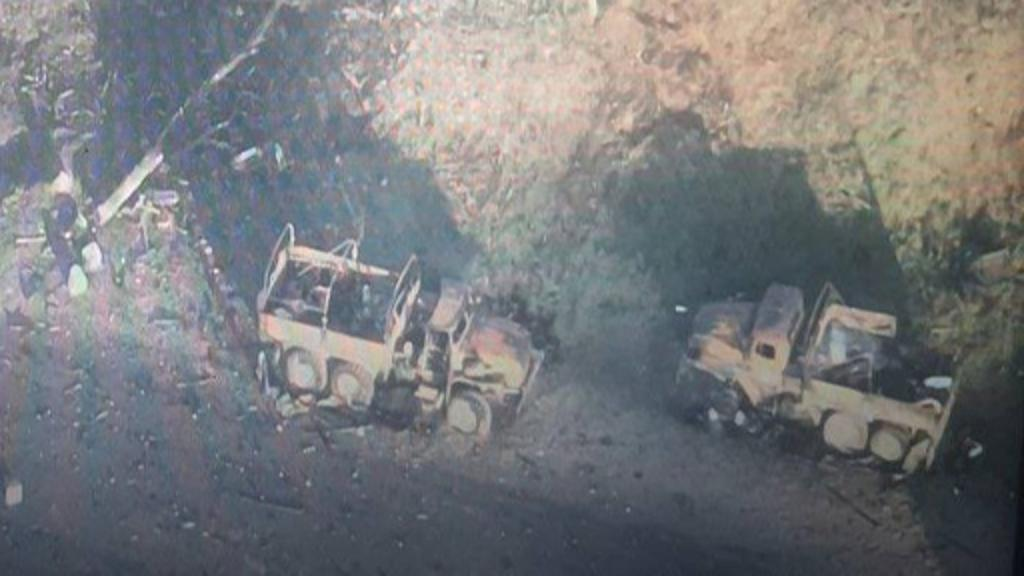TRUCK: (236, 214, 542, 444), (672, 274, 966, 476)
